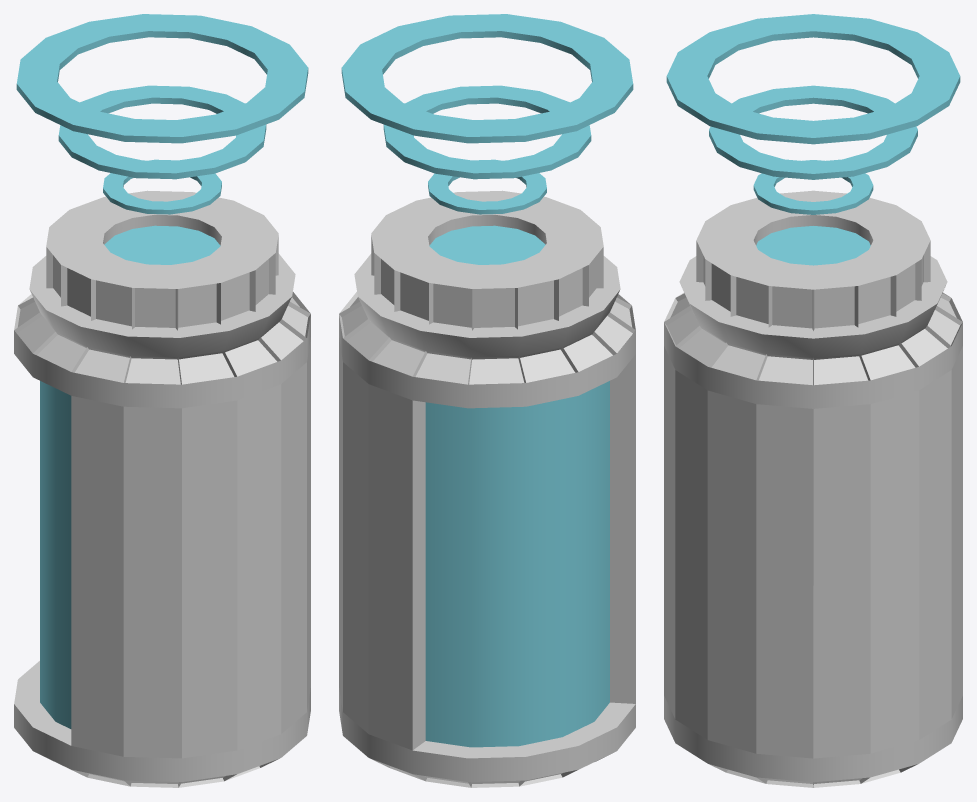
File: cryopod-hanged.fbx
3 views of the same model, side by side, from view 1: azimuth 30°, elevation 25°; view 2: azimuth 150°, elevation 25°; view 3: azimuth 270°, elevation 25° (orthographic).
Visible parts, largest first — view 1: 柱体, 柱体.001, 柱体.002, 柱体.003; view 2: 柱体, 柱体.002, 柱体.001, 柱体.003; view 3: 柱体, 柱体.001, 柱体.003.
Boxes of the visible parts, left/top/right/bottom form: 柱体: left=14, top=190, right=310, bottom=787; 柱体.001: left=16, top=14, right=308, bottom=214; 柱体.002: left=40, top=381, right=71, bottom=728; 柱体.003: left=104, top=225, right=220, bottom=264; 柱体: left=339, top=190, right=635, bottom=787; 柱体.002: left=425, top=381, right=609, bottom=747; 柱体.001: left=341, top=14, right=633, bottom=214; 柱体.003: left=429, top=225, right=545, bottom=264; 柱体: left=664, top=190, right=962, bottom=787; 柱体.001: left=666, top=14, right=960, bottom=214; 柱体.003: left=756, top=226, right=870, bottom=265.
Size of the model in its own units: 242 by 590 by 242.
